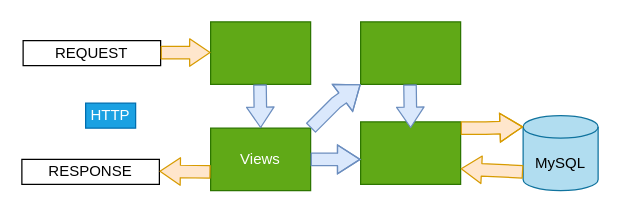
The diagram is 620 pixels wide and 213 high, and some of its shapes have lost their labels. Here are the shapes that lost their labels. From the top down, the box of each, then its label:
(209, 21, 311, 84): URL Patterns
(359, 21, 461, 84): Serializer
(359, 121, 461, 184): Models
